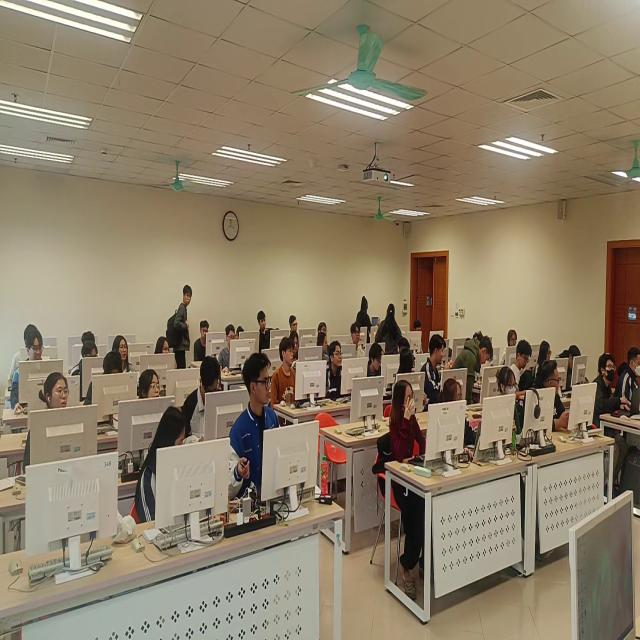raise_hand: (389, 381, 424, 462)
raise_head: (229, 353, 281, 511), (23, 372, 71, 478), (439, 377, 482, 450), (592, 352, 622, 425), (272, 337, 298, 406), (327, 339, 344, 400), (258, 310, 281, 350), (113, 336, 137, 374), (139, 369, 163, 401), (352, 323, 367, 360), (155, 336, 172, 355), (318, 321, 329, 334)
stand: (454, 333, 495, 408), (167, 284, 194, 370), (376, 304, 404, 355), (357, 295, 373, 344)
using_computer: (137, 405, 189, 528), (183, 355, 224, 438), (11, 329, 46, 415), (84, 351, 124, 407), (9, 325, 39, 390), (71, 341, 100, 404), (616, 345, 640, 413), (556, 344, 585, 395), (509, 340, 533, 392), (219, 325, 237, 370), (194, 320, 212, 362), (497, 364, 519, 398), (367, 342, 384, 378), (414, 320, 430, 354), (537, 343, 553, 372), (288, 315, 300, 336), (82, 330, 97, 343), (508, 331, 518, 348), (236, 322, 245, 340)
